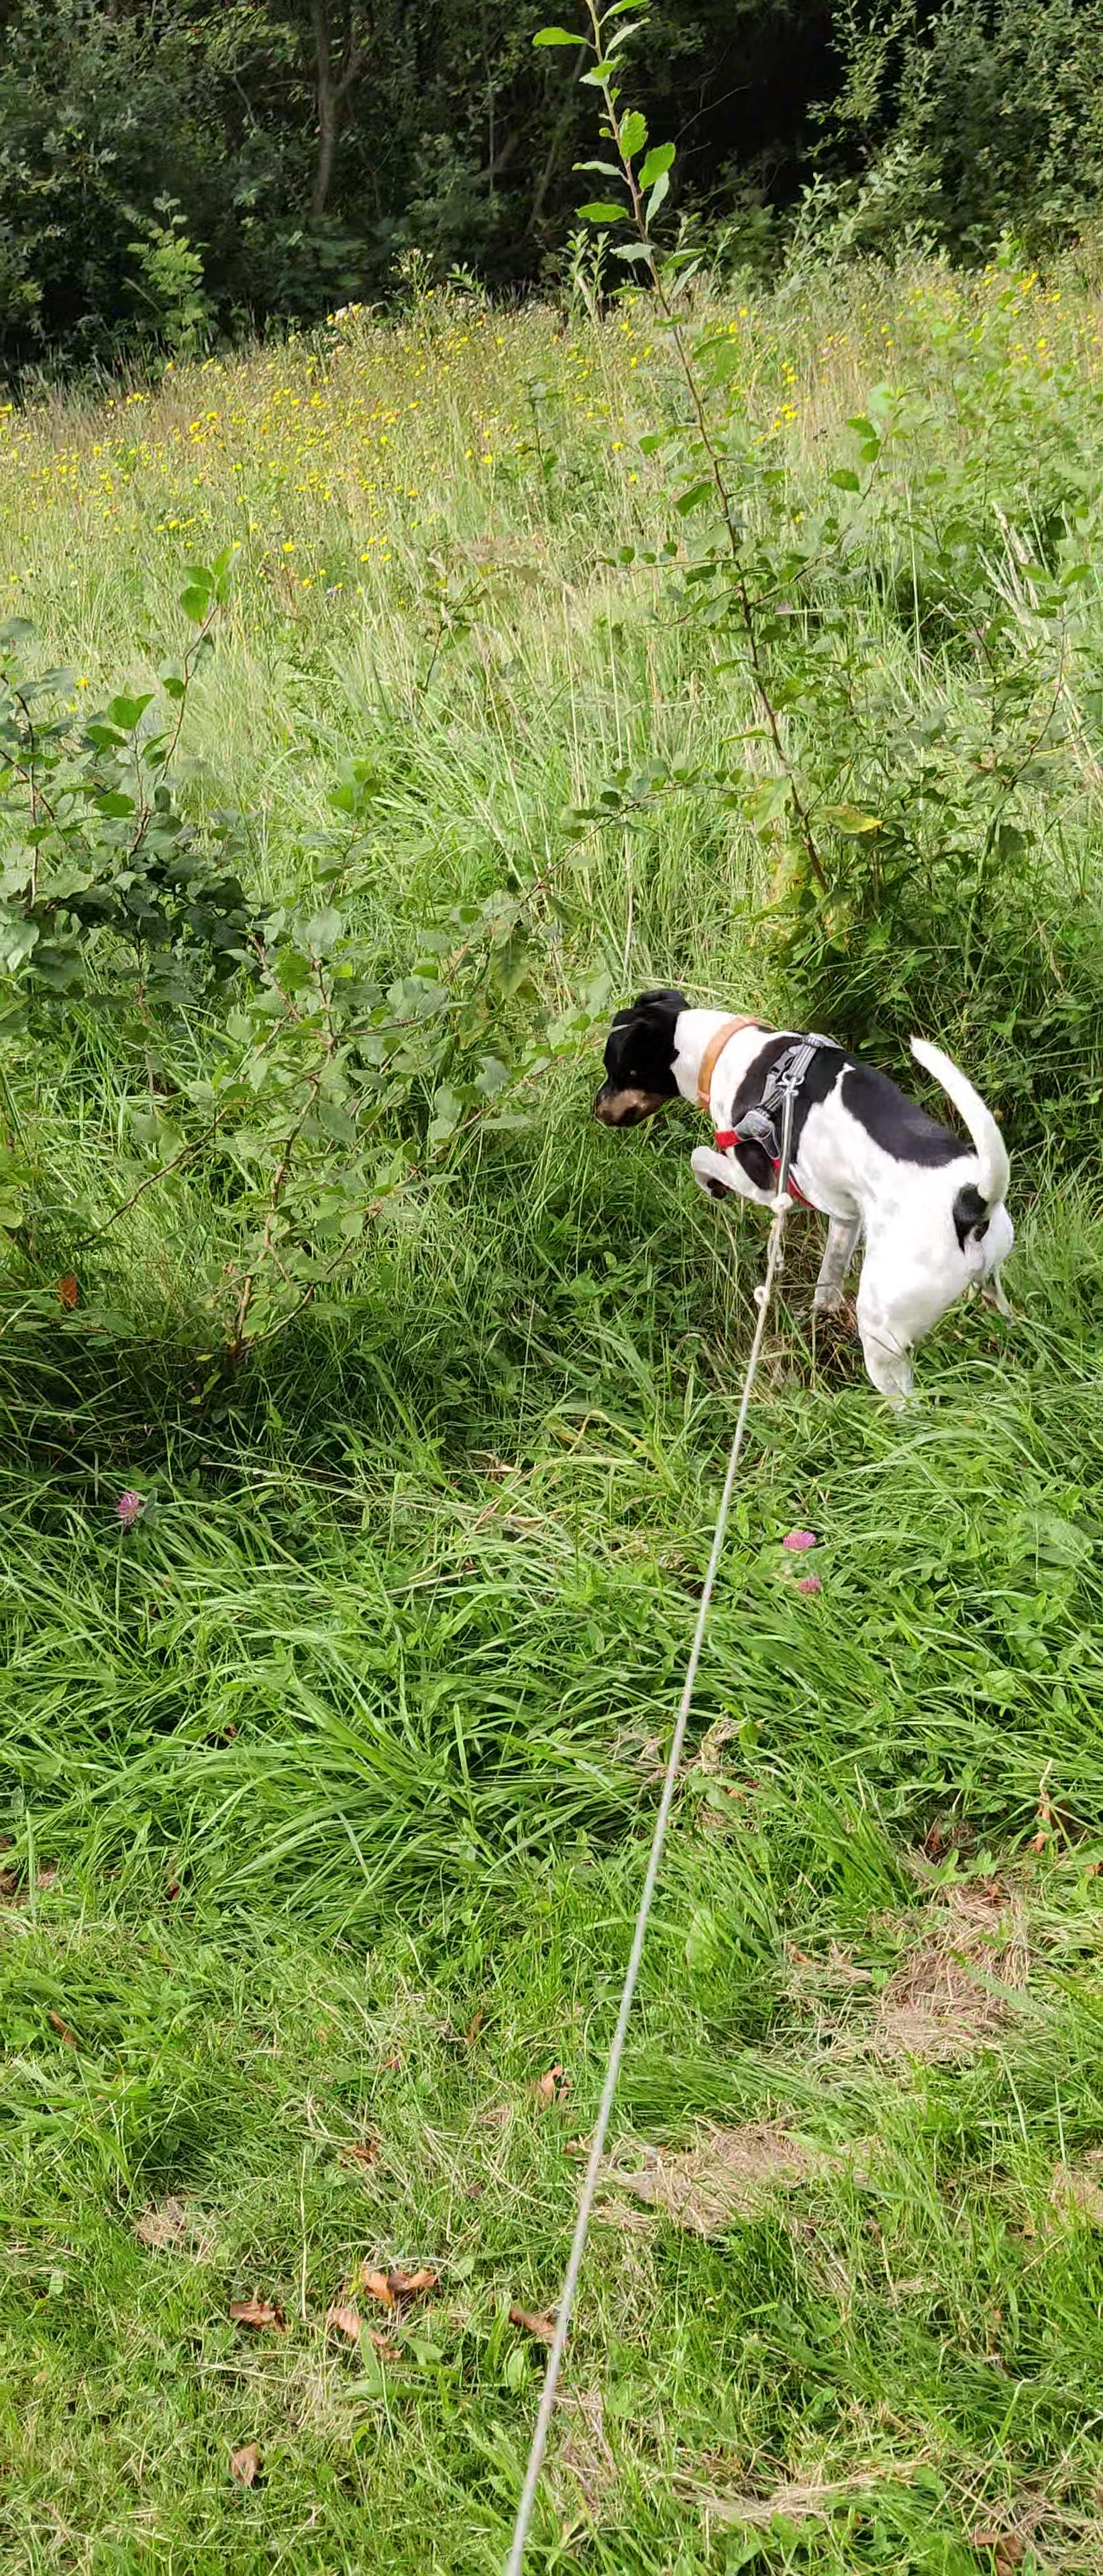Dog: (580, 977, 1021, 1413)
